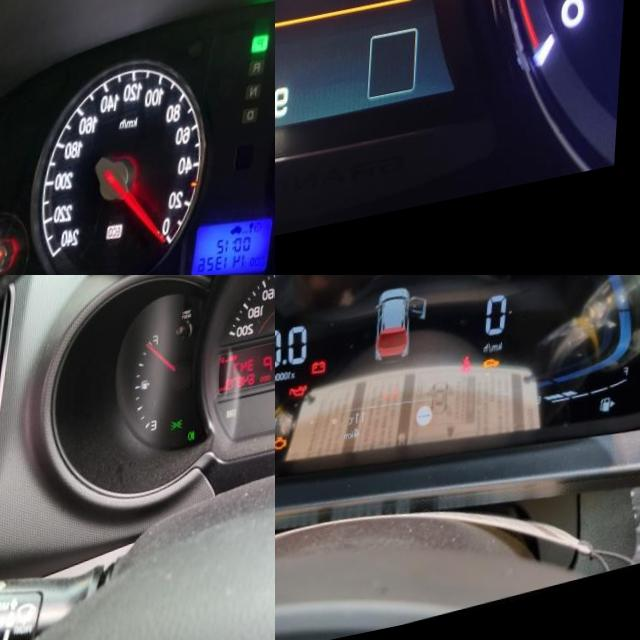FrontFogLight: (192, 438, 201, 451)
SideLamp: (176, 427, 189, 439)
